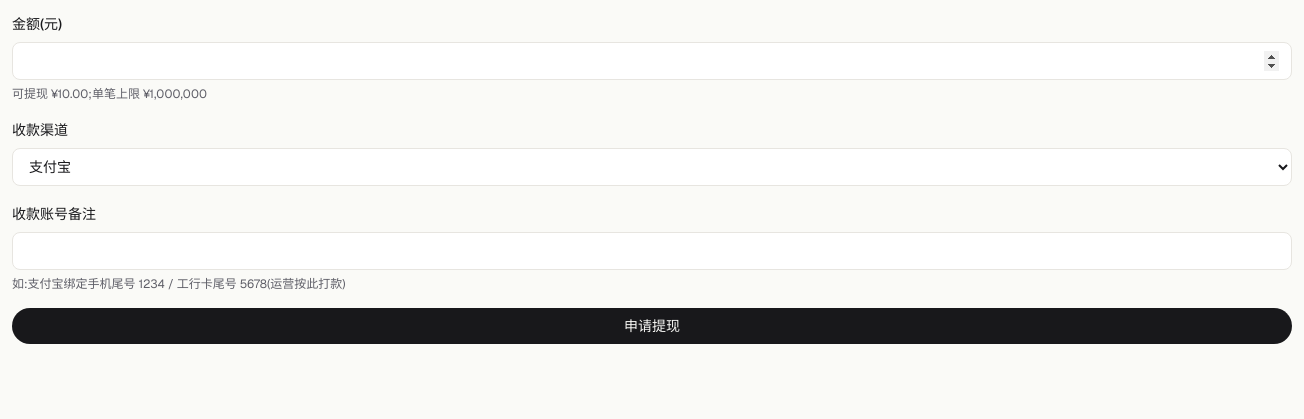
Test: WithdrawalForm › blocks amount over the withdrawable balance without hitting the API
Type "11" into the number field labelled "金额(元) 可提现 ¥10.00;单笔上限 ¥1,000,000" at (652, 61), box [12,42,1292,80]
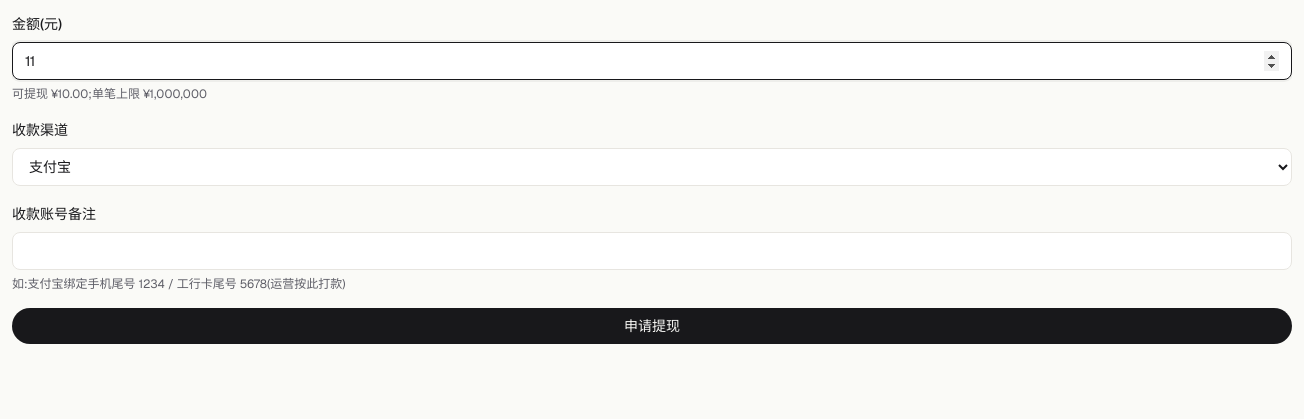
Type "x" into the field labelled "收款账号备注 如:支付宝绑定手机尾号 1234 / 工行卡尾号 5678(运营按此打款)" at (652, 251), box [12,232,1292,270]
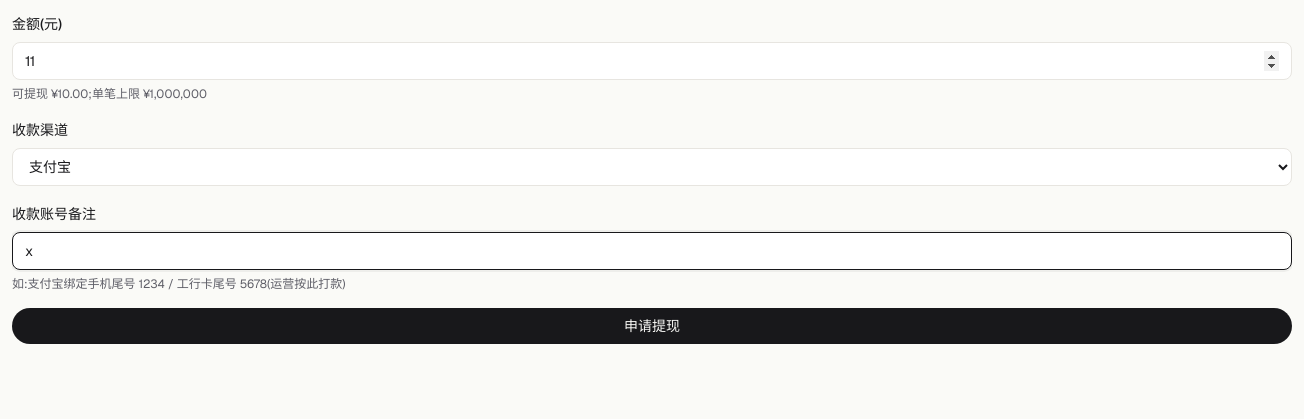
Click the button "申请提现" at (652, 326), box [12,308,1292,344]
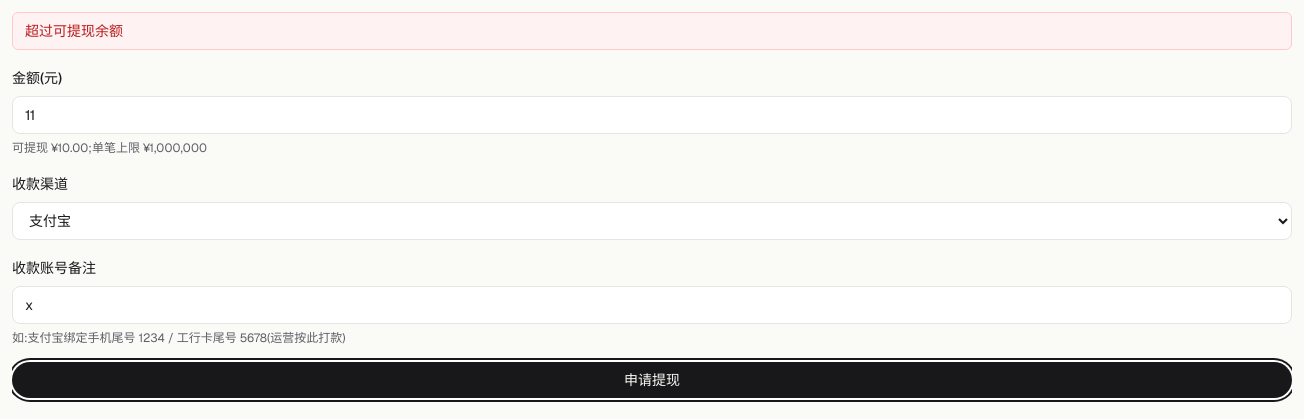
Now the text "超过可提现余额" is shown, box [12,12,1292,50]
